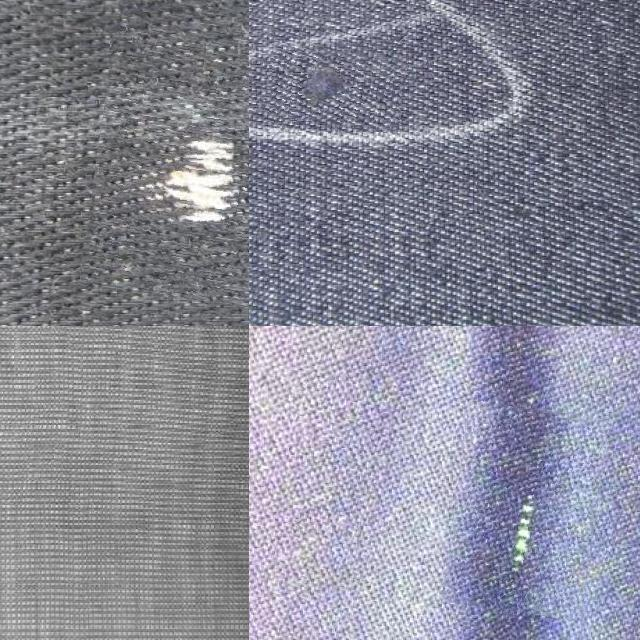stains: (89, 0, 249, 313), (448, 403, 604, 615), (264, 46, 406, 130)
